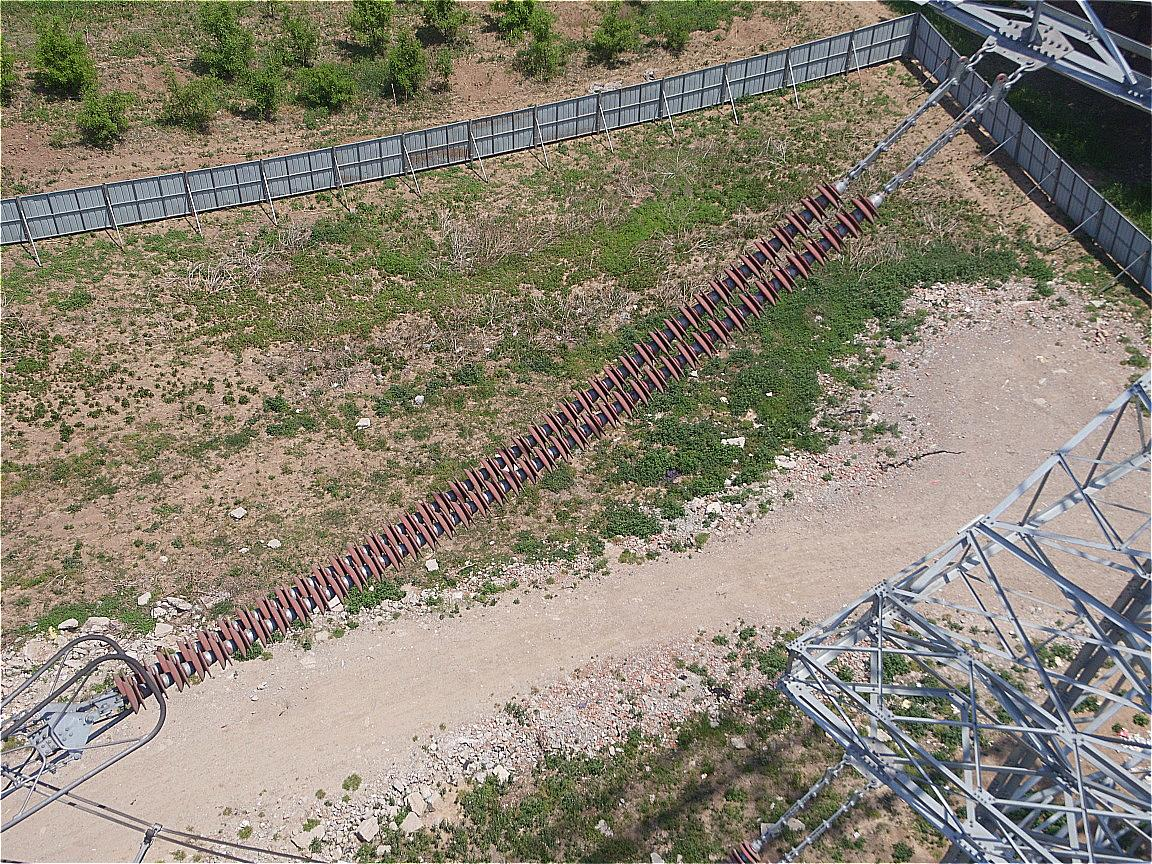insultor2: (113, 176, 880, 715)
